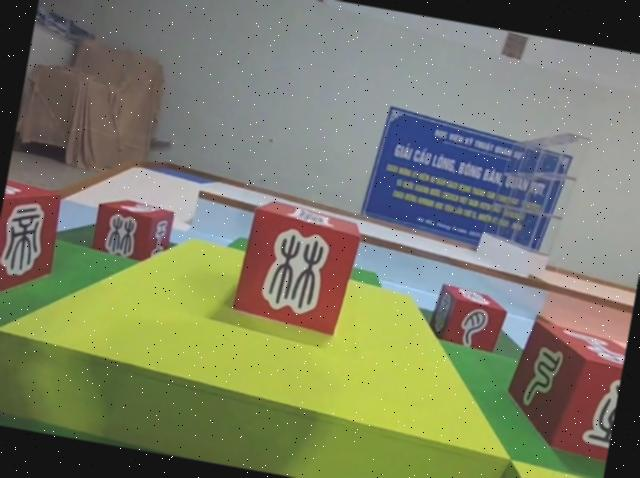R2 Fake: (228, 198, 364, 348), (500, 318, 628, 459), (0, 175, 66, 307), (90, 194, 172, 268), (426, 283, 510, 355)
